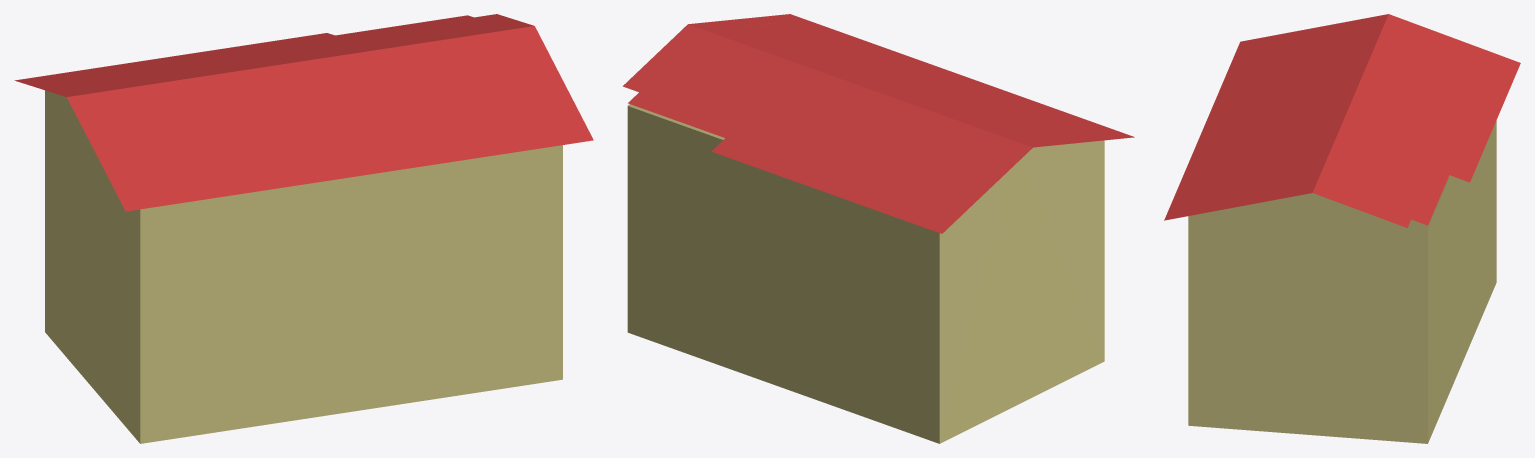
3 renders of one model, left to right at view 1: azimuth 30°, elevation 25°; view 2: azimuth 150°, elevation 25°; view 3: azimuth 270°, elevation 25°, orthographic. The views are drawn at different scales.
Bounding box in the file's own units: 16.83 × 12.85 × 9.98.
